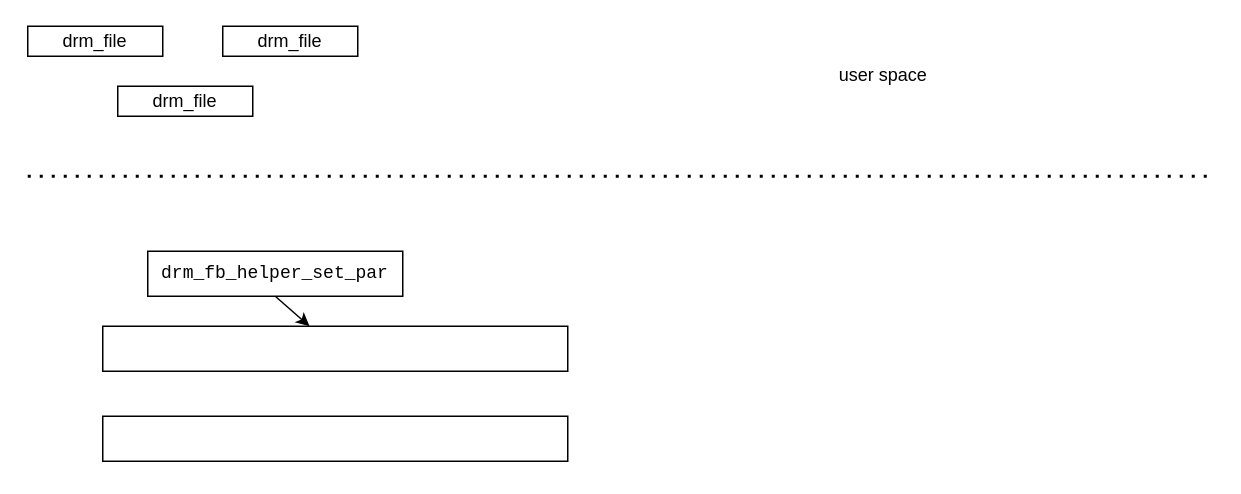
This 1241x494 diagram has some shape labels left out. Each missing label, with the centre of its shape:
"drm_fb_helper_hotplug_event" goes at (x=334, y=438).
"drm_fb_helper_restore_fbdev_mode_unlocked" goes at (x=334, y=348).
